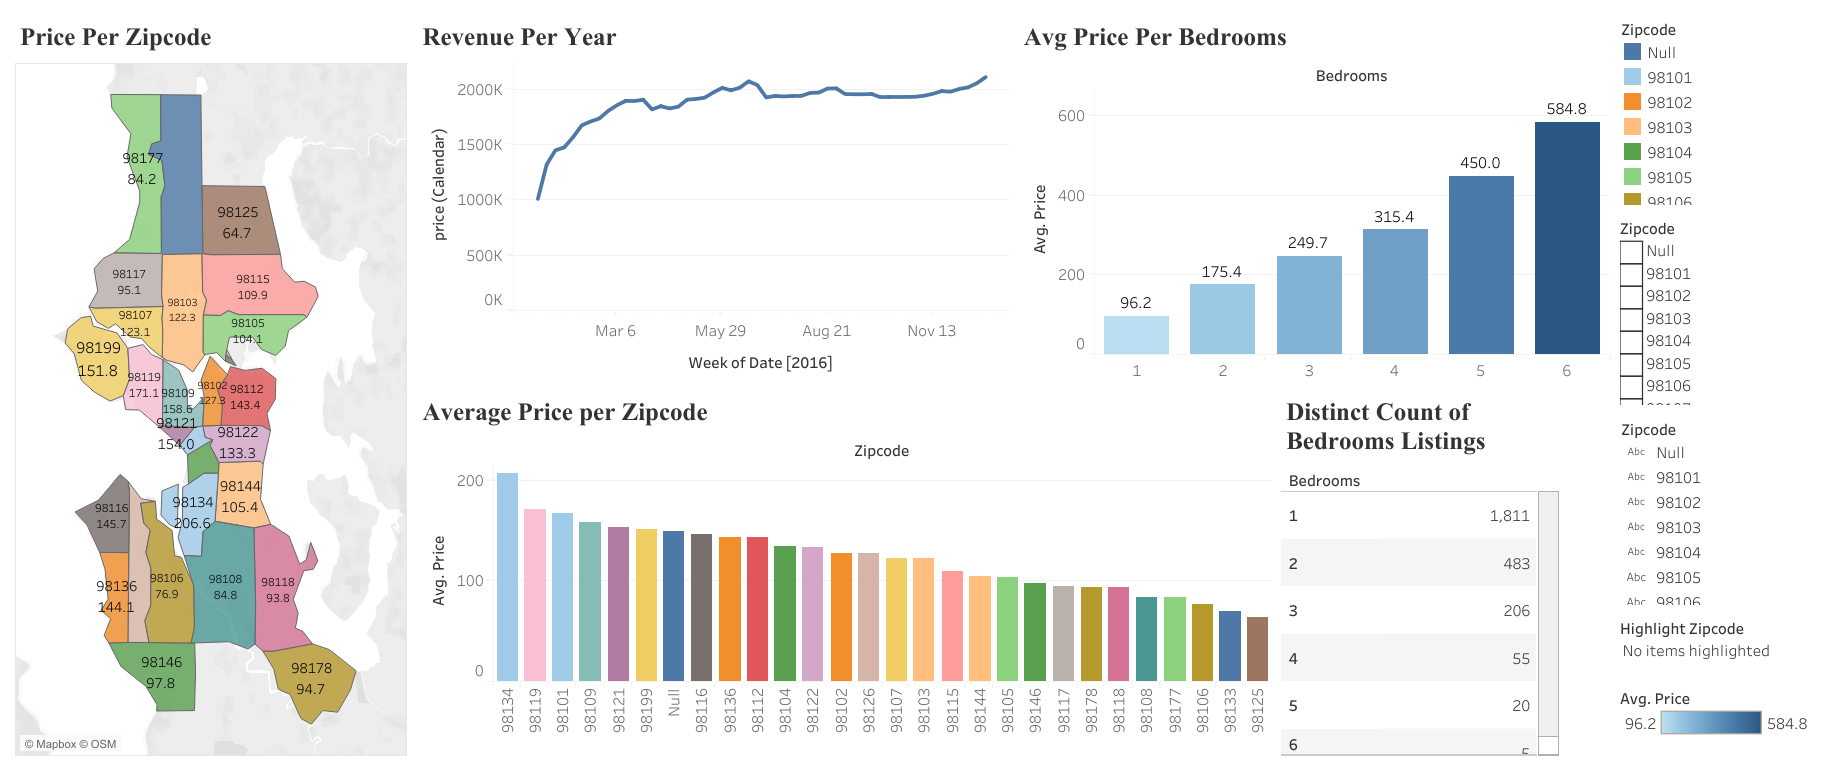

What the dashboard file says about the page in this screenshot:
{"tool":"tableau","page":{"name":"Dashboard 1","canvas":[1000,1000],"units":"permille","ordinal":0},"visuals":[{"type":"worksheet","title":"Sheet 5","mark":"Multipolygon","box":[4.9,9.6,223.6,980.8]},{"type":"worksheet","title":"Sheet 2","mark":"Automatic","rows":["price (Calendar)"],"cols":["date"],"box":[228.5,9.6,334.6,490.4]},{"type":"worksheet","title":"Sheet 3","mark":"Automatic","rows":["price"],"cols":["bedrooms"],"box":[563.1,9.6,334.6,490.4]},{"type":"legend","title":"Sheet 1","param":"[federated.15ahtgy0flg44t1b7c3y00o4tgxw].[none:zipcode:ok]","box":[897.6,9.6,97.5,275.4]},{"type":"filter","title":"Sheet 5","param":"[federated.15ahtgy0flg44t1b7c3y00o4tgxw].[none:zipcode:ok]","box":[897.6,285,97.5,275.4]},{"type":"worksheet","title":"Sheet 1","mark":"Automatic","rows":["price"],"cols":["zipcode"],"box":[228.5,500,480.8,490.4]},{"type":"worksheet","title":"Sheet 4","mark":"Automatic","rows":["bedrooms"],"box":[709.3,500,188.3,490.4]},{"type":"legend","title":"Sheet 5","param":"[federated.15ahtgy0flg44t1b7c3y00o4tgxw].[none:zipcode:ok]","box":[897.6,560.5,97.5,275.4]},{"type":"highlighter","title":"Sheet 5","param":"[federated.15ahtgy0flg44t1b7c3y00o4tgxw].[none:zipcode:ok]","box":[897.6,835.9,97.5,67.1]},{"type":"legend","title":"Sheet 3","param":"[federated.15ahtgy0flg44t1b7c3y00o4tgxw].[avg:price:qk]","box":[897.6,903,97.5,87.4]}]}

Visuals, with their boxes on the dashboard's canvas, which has no fixed pixel size, in thousandths of its width and height (x1, y1, x2, y2). These are canvas units, not pixel positions in the 1828x770 screenshot, which may show the page scaled, cropped or inside an application window:
"Sheet 5" worksheet (Multipolygon marks): {"x1": 5, "y1": 10, "x2": 228, "y2": 990}
"Sheet 2" worksheet: {"x1": 228, "y1": 10, "x2": 563, "y2": 500}
"Sheet 3" worksheet: {"x1": 563, "y1": 10, "x2": 898, "y2": 500}
"Sheet 1" legend: {"x1": 898, "y1": 10, "x2": 995, "y2": 285}
"Sheet 5" filter: {"x1": 898, "y1": 285, "x2": 995, "y2": 560}
"Sheet 1" worksheet: {"x1": 228, "y1": 500, "x2": 709, "y2": 990}
"Sheet 4" worksheet: {"x1": 709, "y1": 500, "x2": 898, "y2": 990}
"Sheet 5" legend: {"x1": 898, "y1": 560, "x2": 995, "y2": 836}
"Sheet 5" highlighter: {"x1": 898, "y1": 836, "x2": 995, "y2": 903}
"Sheet 3" legend: {"x1": 898, "y1": 903, "x2": 995, "y2": 990}
